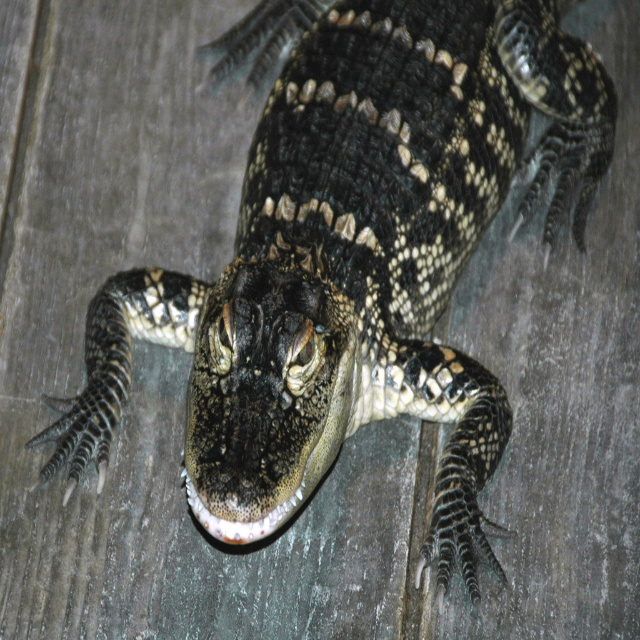Lizard: (34, 18, 621, 630)
